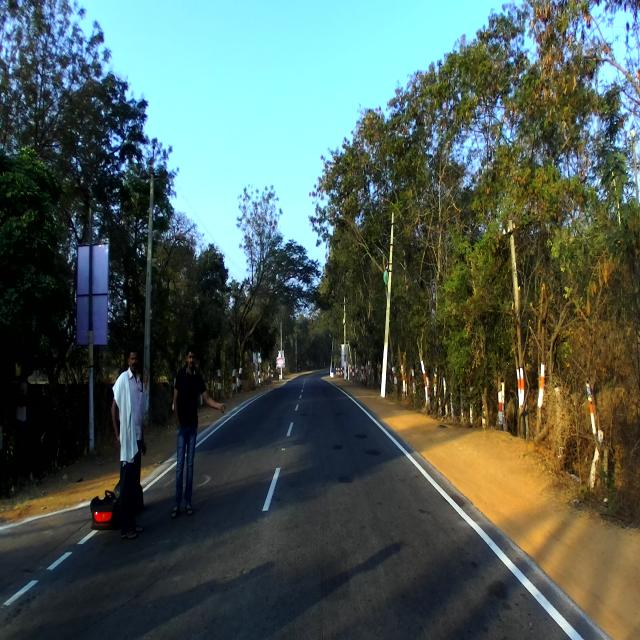person ahead at: (100, 333, 150, 532), (172, 342, 208, 527)
